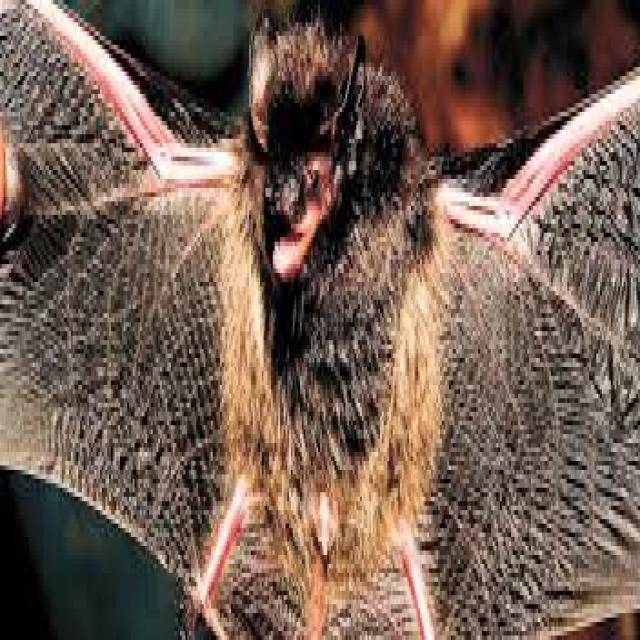Bat: (2, 9, 640, 640)
